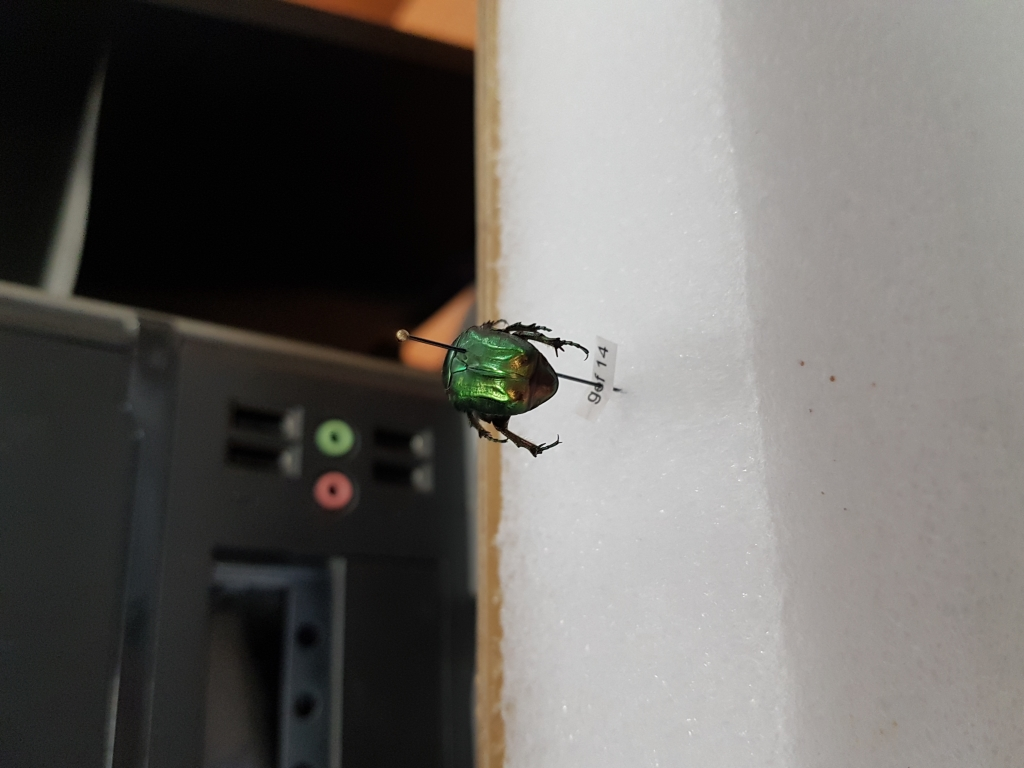Cetonia_aurata: (435, 315, 593, 463)
